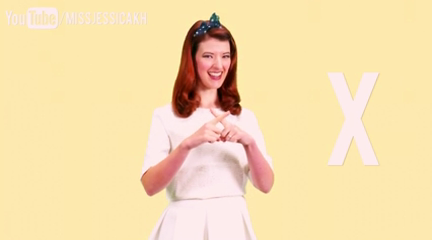X: (183, 100, 253, 152)
